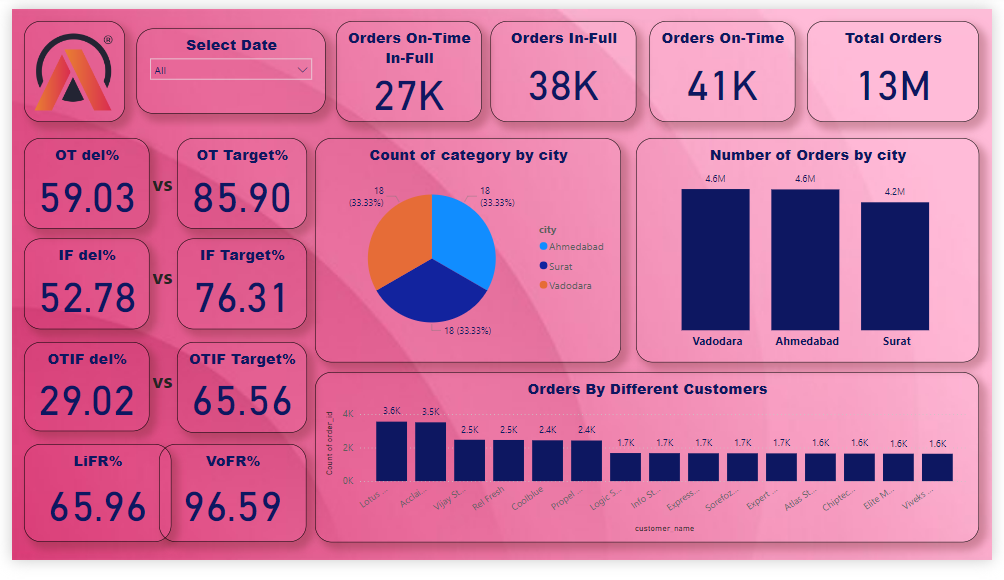

The dashboard page shown, as its layout file describes it:
{"tool":"powerbi","page":{"name":"Page 1","canvas":[1280,720],"ordinal":0},"visuals":[{"type":"image","box":[15.1,15.1,132.1,132.1],"z":0},{"type":"card","title":"Total Orders","fields":{"Values":["Sum(fact_order_lines.order_qty)"]},"box":[1039.6,15.1,224.5,132.1],"z":1000},{"type":"card","title":"Orders On-Time","fields":{"Values":["Sum(fact_order_lines.On Time)"]},"box":[834,15.1,190.6,132.1],"z":2000},{"type":"card","title":"Orders In-Full","fields":{"Values":["Sum(fact_order_lines.In Full)"]},"box":[626.4,15.1,190.6,132.1],"z":3000},{"type":"card","title":"Orders On-Time In-Full","fields":{"Values":["Sum(fact_order_lines.On Time In Full)"]},"box":[422.6,15.1,190.6,132.1],"z":4000},{"type":"slicer","title":"Select Date","fields":{"Values":["fact_order_lines.order_placement_date"]},"box":[162.3,26.4,247.2,111.3],"z":5000},{"type":"columnChart","title":"Number of Orders by city","fields":{"Category":["dim_customers.city"],"Y":["Sum(fact_order_lines.order_qty)"]},"box":[815,168.3,448.3,293.3],"z":6000},{"type":"pieChart","fields":{"Category":["dim_customers.city"],"Y":["CountNonNull(dim_products.category)"]},"box":[396.7,168.3,400,293.3],"z":7000},{"type":"card","title":"IF del%","fields":{"Values":["dim_customers.IF_Del_Perc"]},"box":[15.1,300,164.2,118.9],"z":8000},{"type":"card","title":"OTIF del%","fields":{"Values":["dim_customers.OTIF_Del_Perc"]},"box":[15.1,435.8,164.2,117],"z":9000},{"type":"card","title":"OT del%","fields":{"Values":["dim_customers.OT_Del_Perc"]},"box":[15.1,167.9,164.2,118.9],"z":10000},{"type":"card","title":"OT Target%","fields":{"Values":["dim_customers.avg_ot_target"]},"box":[215.1,167.9,169.8,118.9],"z":11000},{"type":"card","title":"OTIF Target%","fields":{"Values":["dim_customers.avg_otif_target"]},"box":[215,435,170,118.3],"z":12000},{"type":"card","title":"IF Target%","fields":{"Values":["dim_customers.avg_if_target"]},"box":[215,300,170,118.3],"z":13000},{"type":"clusteredColumnChart","title":"Orders By Different Customers","fields":{"Y":["CountNonNull(fact_orders_aggregate.order_id)"],"Category":["dim_customers.customer_name"]},"box":[396.2,473.6,867.9,222.6],"z":14000},{"type":"card","title":"LiFR%","fields":{"Values":["dim_customers.LFR"]},"box":[15.1,567.9,192.5,128.3],"z":15000},{"type":"card","title":"VoFR%","fields":{"Values":["dim_customers.VFR"]},"box":[192.5,567.9,192.5,128.3],"z":16000},{"type":"textbox","box":[179.2,203.8,79.2,111.3],"z":17000},{"type":"textbox","box":[179.2,326.4,79.2,67.9],"z":18000},{"type":"textbox","box":[179.2,460.4,62.3,67.9],"z":19000}]}

Visuals, with their boxes in screenshot pixels (x1, y1, x2, y2), scaled from the page's 1280x720 canvas onto the 1004x580 screenshot:
image: <region>12, 12, 115, 119</region>
"Total Orders" card: <region>815, 12, 992, 119</region>
"Orders On-Time" card: <region>654, 12, 804, 119</region>
"Orders In-Full" card: <region>491, 12, 641, 119</region>
"Orders On-Time In-Full" card: <region>331, 12, 481, 119</region>
"Select Date" slicer: <region>127, 21, 321, 111</region>
"Number of Orders by city" columnChart: <region>639, 136, 991, 372</region>
pieChart - dim_customers.city x CountNonNull(dim_products.category): <region>311, 136, 625, 372</region>
"IF del%" card: <region>12, 242, 141, 337</region>
"OTIF del%" card: <region>12, 351, 141, 445</region>
"OT del%" card: <region>12, 135, 141, 231</region>
"OT Target%" card: <region>169, 135, 302, 231</region>
"OTIF Target%" card: <region>169, 350, 302, 446</region>
"IF Target%" card: <region>169, 242, 302, 337</region>
"Orders By Different Customers" clusteredColumnChart: <region>311, 382, 992, 561</region>
"LiFR%" card: <region>12, 457, 163, 561</region>
"VoFR%" card: <region>151, 457, 302, 561</region>
textbox: <region>141, 164, 203, 254</region>
textbox: <region>141, 263, 203, 318</region>
textbox: <region>141, 371, 189, 426</region>
